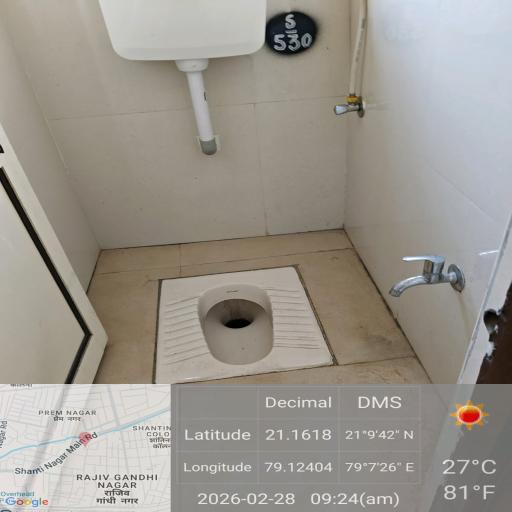clean_floor: (31, 6, 512, 228), (52, 242, 474, 490)
clean_indian: (142, 280, 313, 392)
